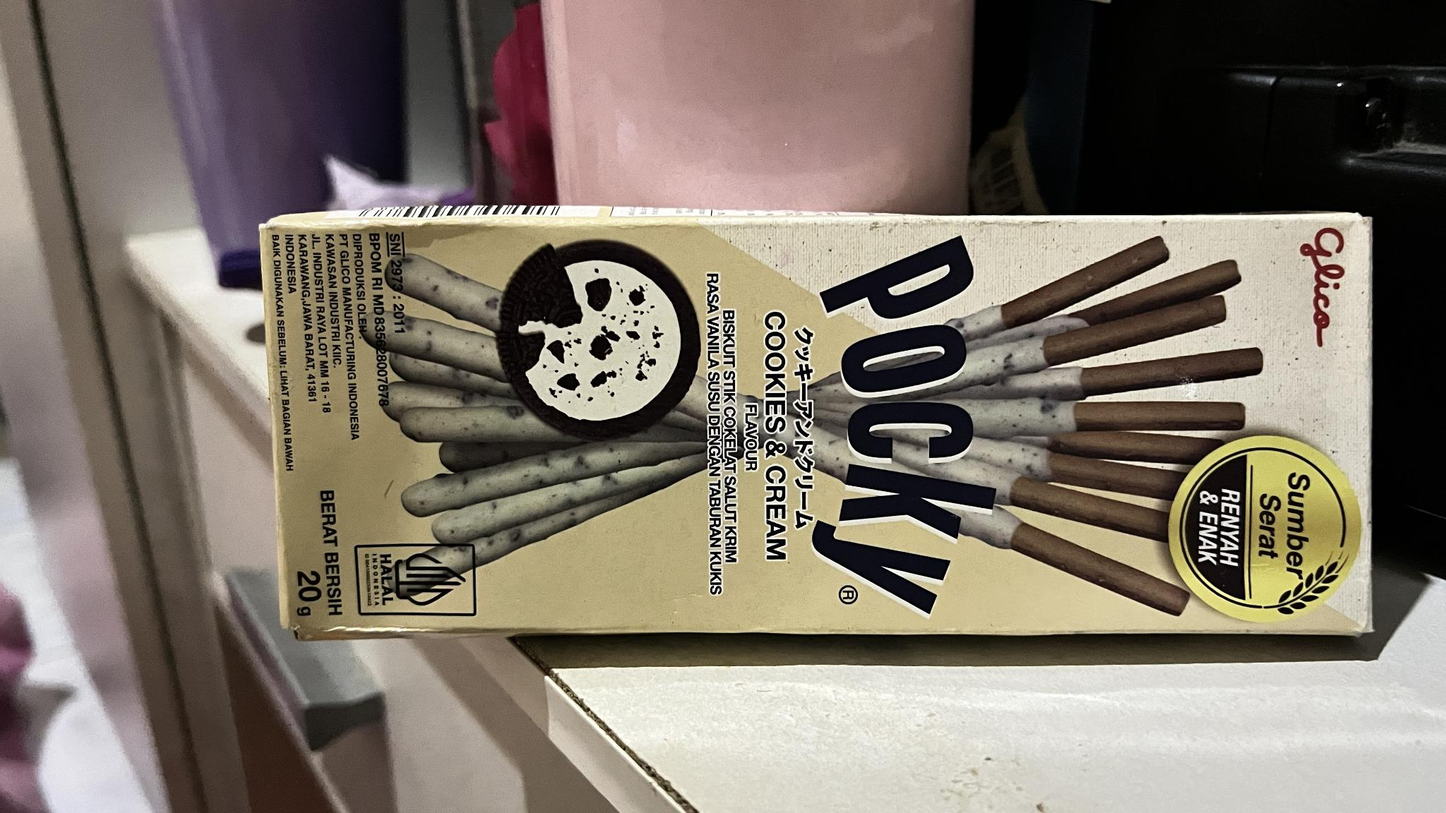Kertas: (262, 217, 1377, 636)
